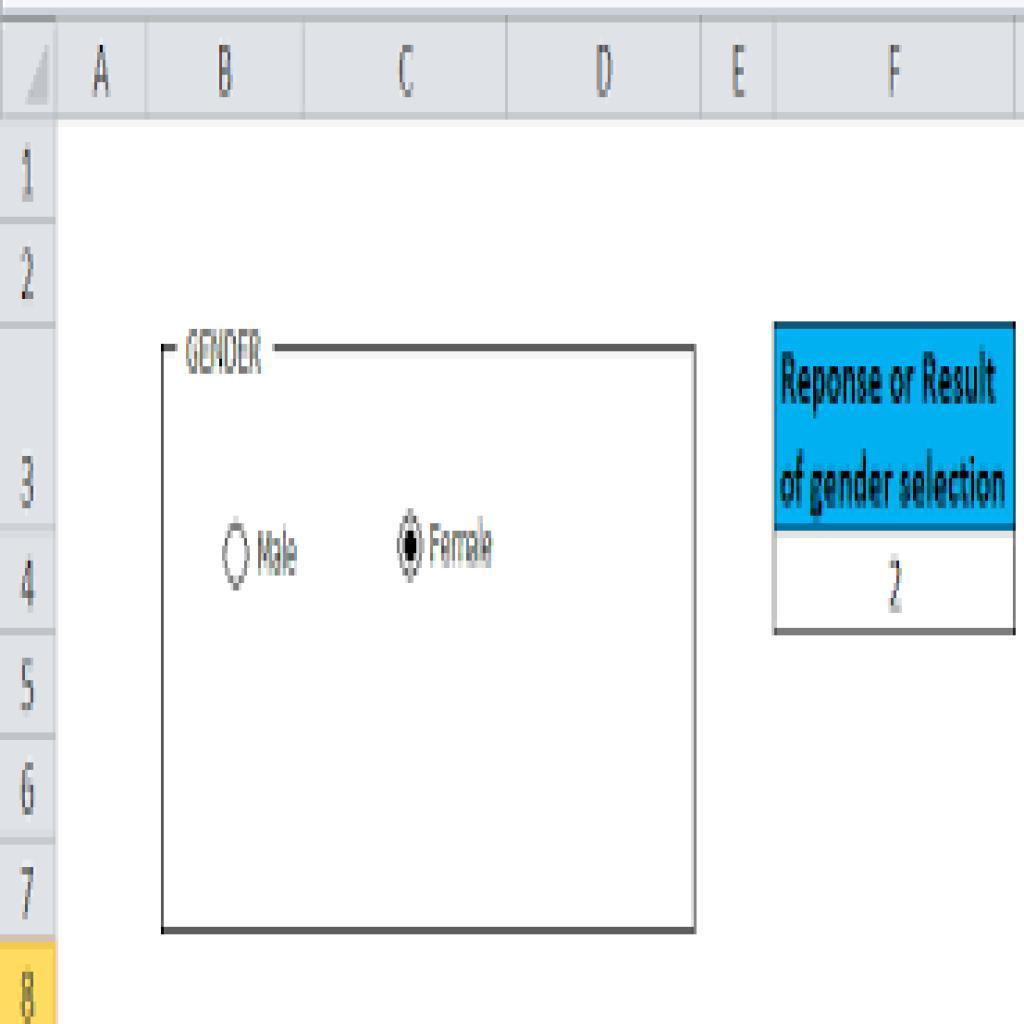radio: (219, 513, 251, 597), (390, 512, 424, 579)
